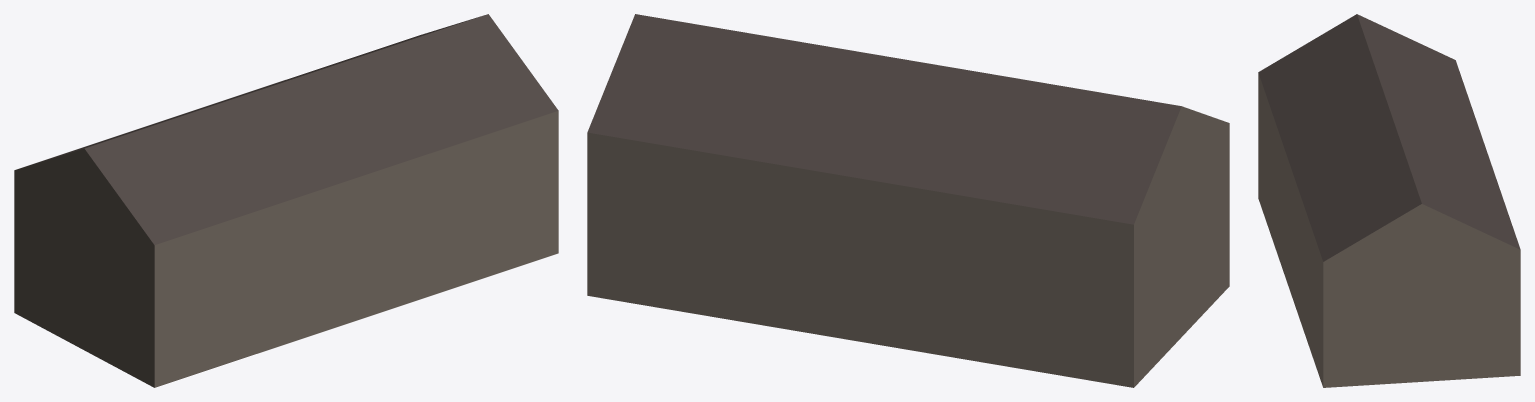
3 views of the same model, side by side, from view 1: azimuth 30°, elevation 25°; view 2: azimuth 150°, elevation 25°; view 3: azimuth 270°, elevation 25° (orthographic). The views are drawn at different scales.
Visible parts, largest first — view 1: HP-w299225198; view 2: HP-w299225198; view 3: HP-w299225198.
Part boxes in pixels (left/top/right/bottom): HP-w299225198: left=14, top=14, right=558, bottom=387; HP-w299225198: left=587, top=14, right=1229, bottom=387; HP-w299225198: left=1258, top=14, right=1520, bottom=387.
Bounding box in the file's own units: 30.97 × 12.73 × 17.01.
